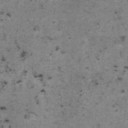oxide scale of temperature system: (0, 21, 67, 128), (80, 48, 128, 114), (0, 10, 12, 18), (120, 34, 126, 42), (96, 124, 102, 128), (114, 10, 118, 14), (60, 104, 64, 108)
